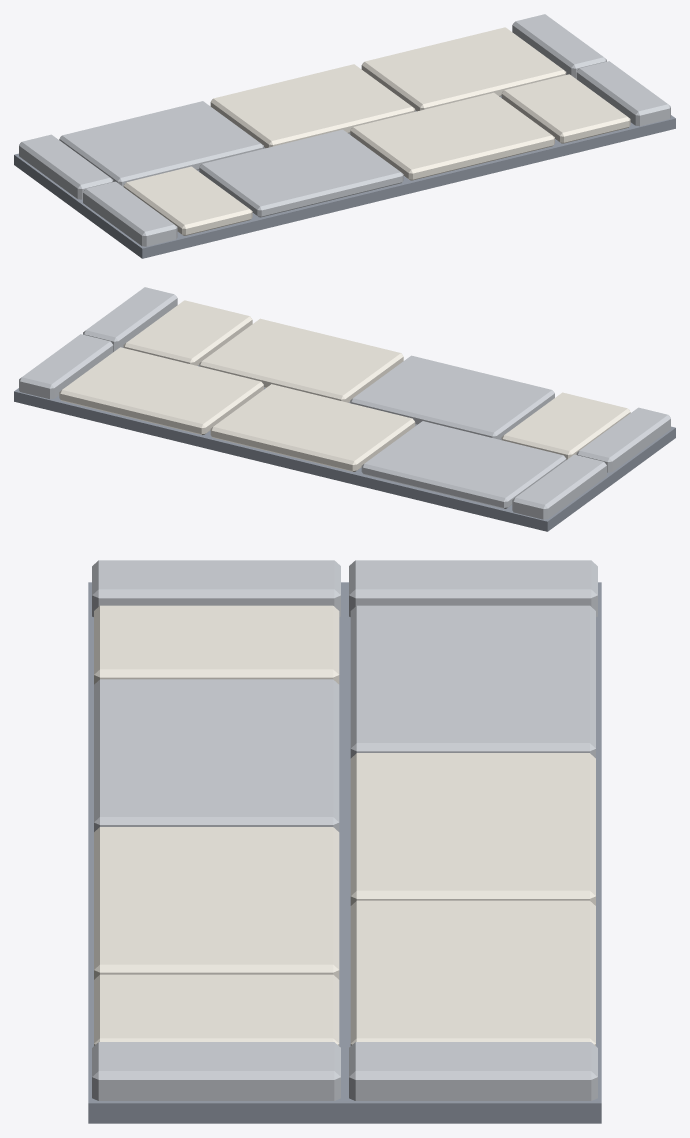
The model's file is deco_path_stone.glb.
3 views of the same model, one above another, from view 1: azimuth 30°, elevation 25°; view 2: azimuth 150°, elevation 25°; view 3: azimuth 270°, elevation 25° (orthographic). The views are drawn at different scales.
Parts seen in each view (by area): view 1: deco_path_stone; view 2: deco_path_stone; view 3: deco_path_stone.
Boxes of the visible parts, x1,y1,x2,y2 form: deco_path_stone: [14, 14, 675, 258]; deco_path_stone: [14, 287, 675, 531]; deco_path_stone: [88, 560, 601, 1123].
Bounding box in the file's own units: 2.4 × 0.1025 × 1.
1 material, 1 textured.
